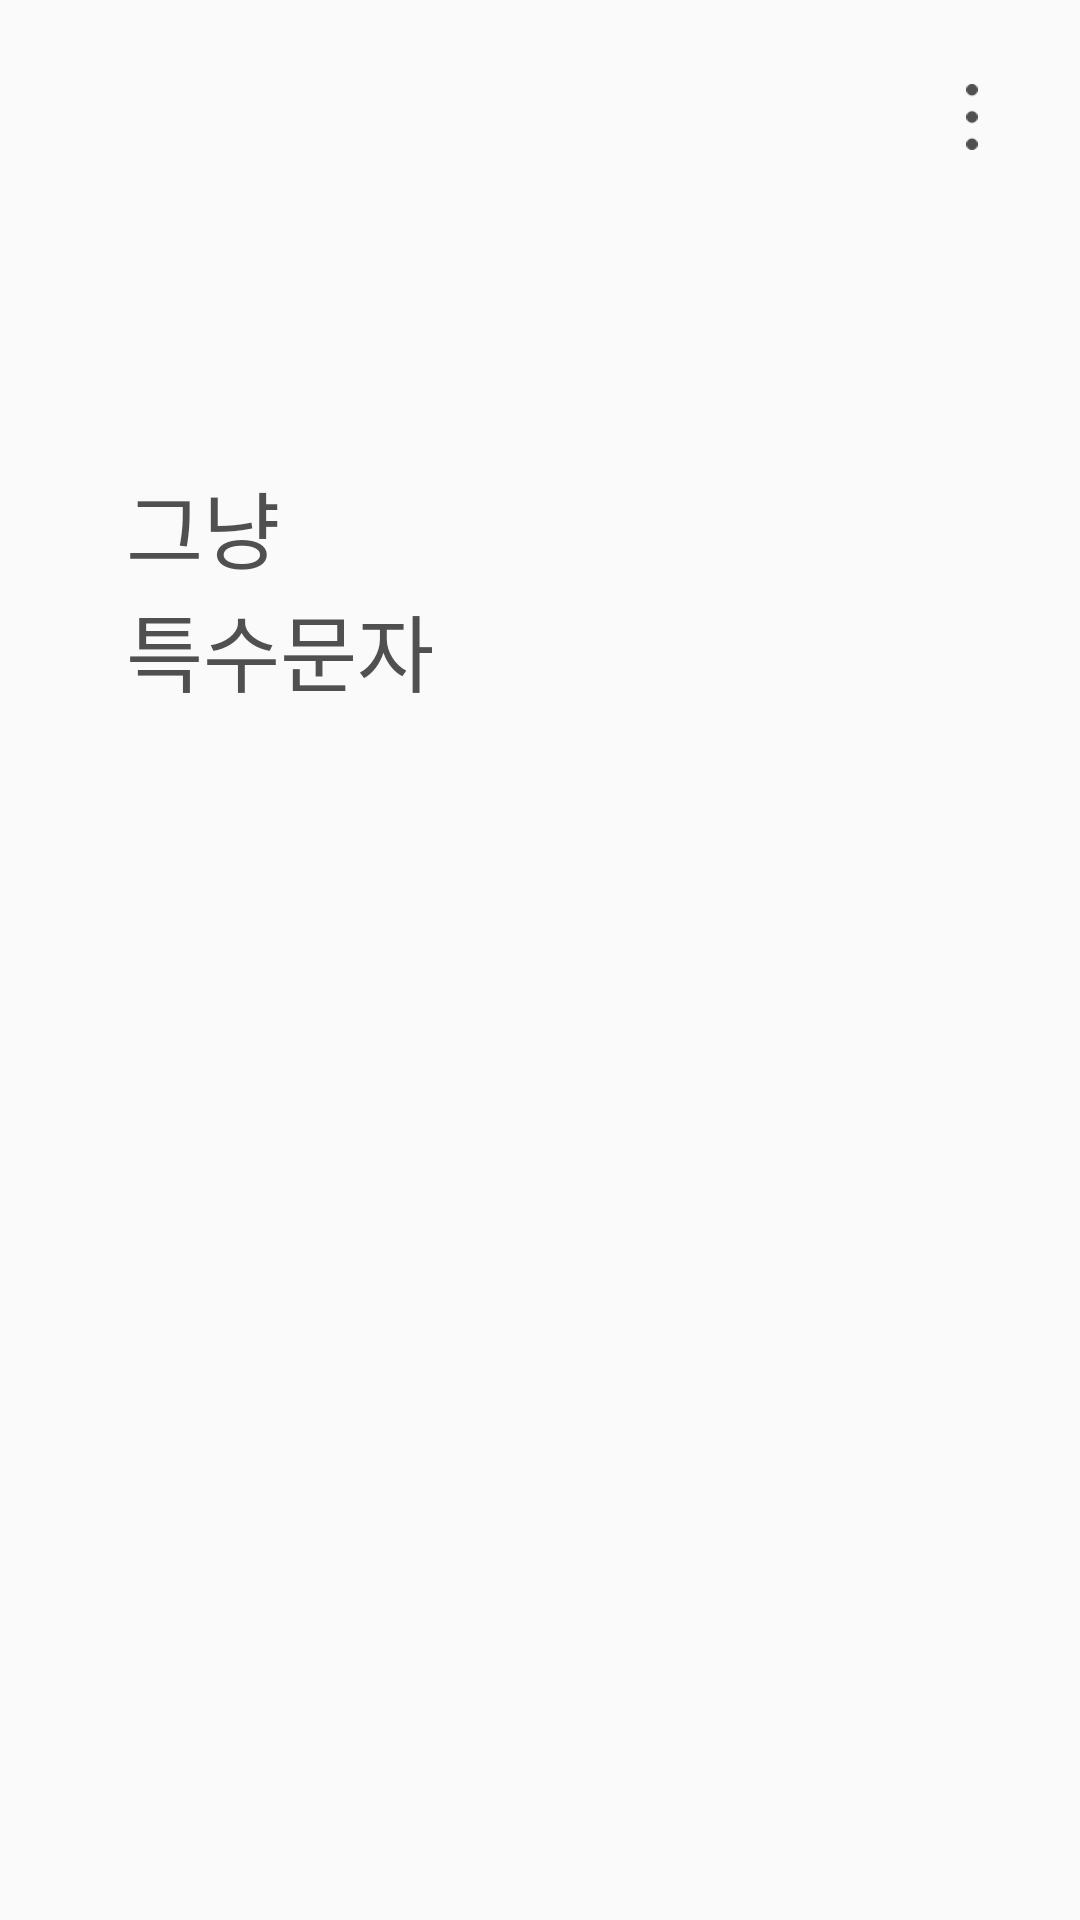

Screen size 1080w x 1920h. Icon name, then its center in pixels as point (x, y):
more: point (972, 117)
